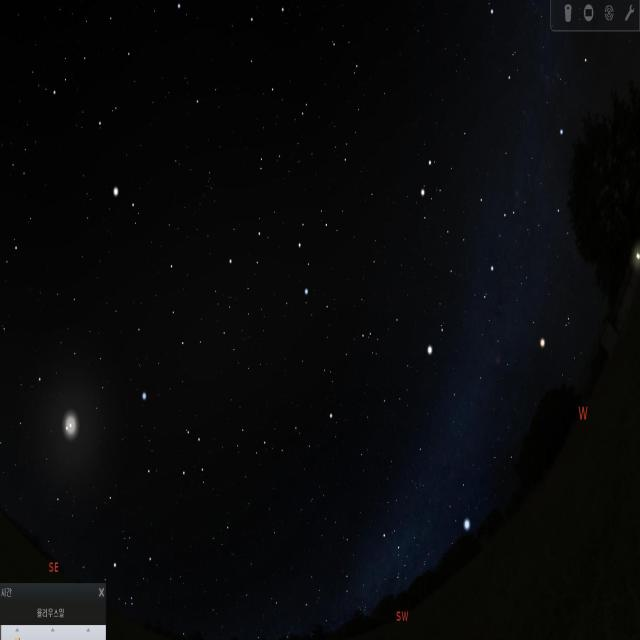bootes: (65, 0, 143, 225)
canis_minor: (421, 321, 450, 362)
gemini: (414, 150, 524, 290)
leo: (216, 176, 338, 308)
moon: (50, 382, 101, 469)
